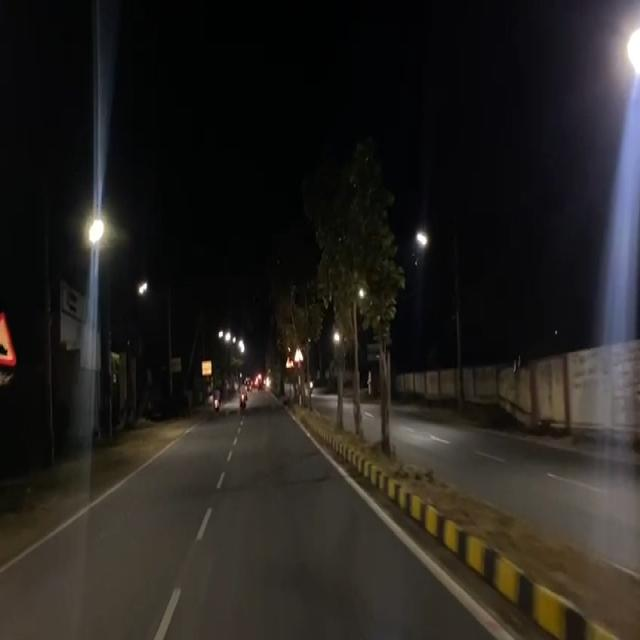bien_cam: (1, 306, 14, 380)
